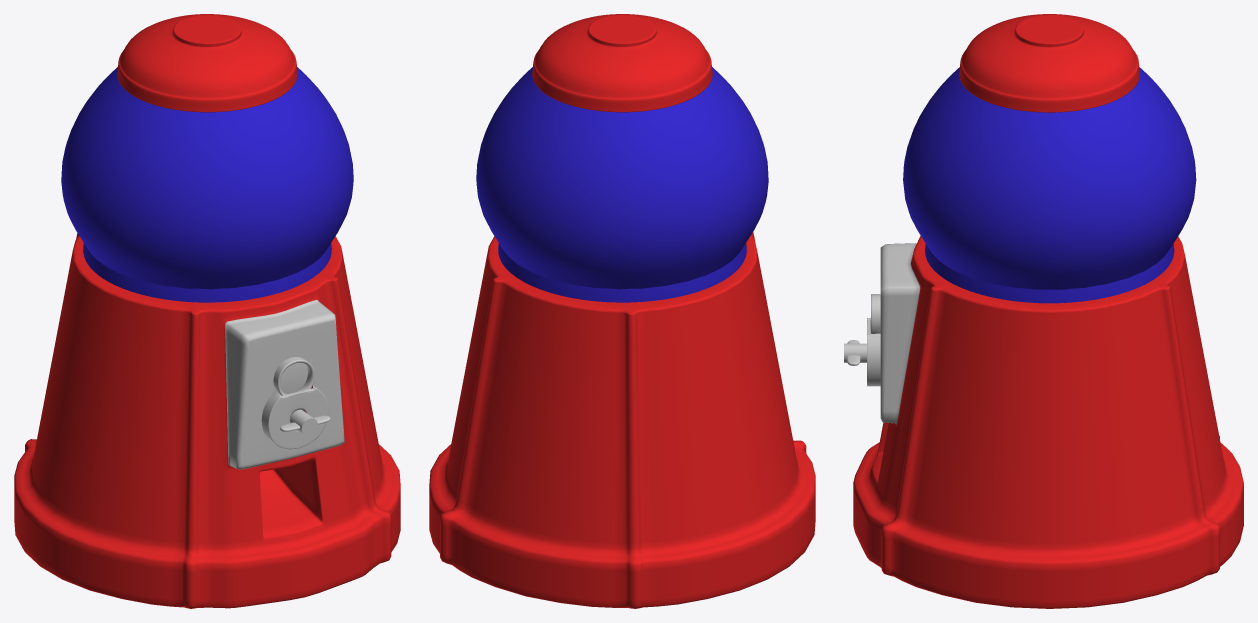
File: gumball.fbx
The picture shows the model from 3 angles, left to right: view 1: azimuth 30°, elevation 25°; view 2: azimuth 150°, elevation 25°; view 3: azimuth 270°, elevation 25°; orthographic projection.
Parts seen in each view (by area): view 1: GumballMachineClosed; view 2: GumballMachineClosed; view 3: GumballMachineClosed.
Part boxes in pixels (bbox=[...]): GumballMachineClosed: bbox=[14, 14, 400, 608]; GumballMachineClosed: bbox=[429, 14, 815, 608]; GumballMachineClosed: bbox=[844, 14, 1243, 608].
Bounding box in the file's own units: 177 × 182 × 250.
